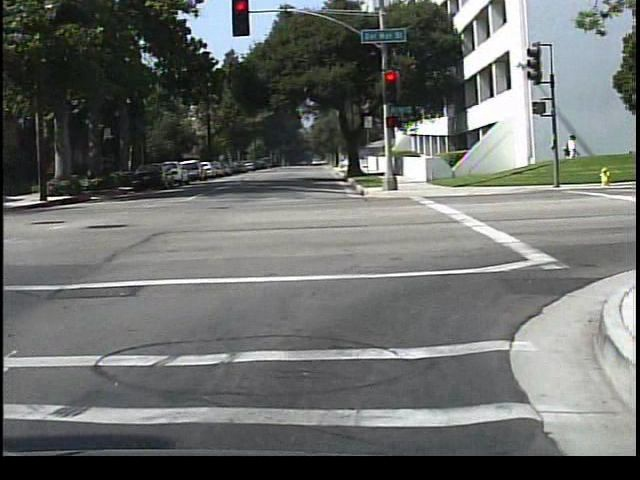person: (557, 126, 581, 178)
